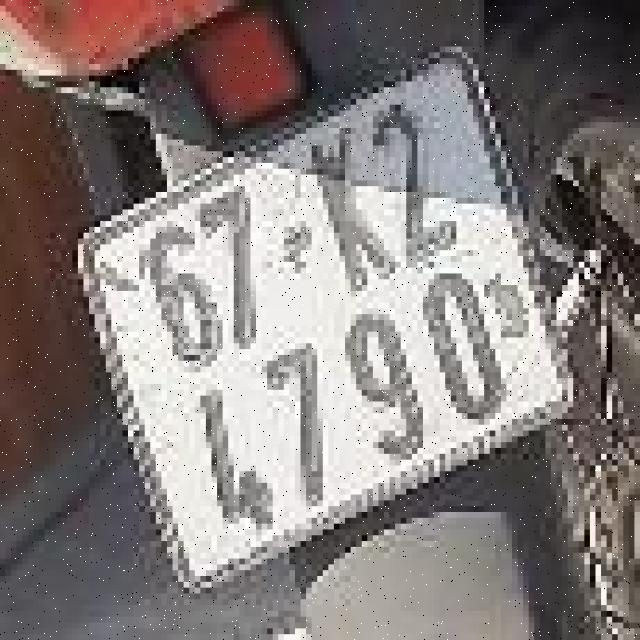0: (407, 253, 529, 440)
2: (352, 80, 477, 276)
4: (178, 371, 298, 545)
6: (133, 205, 230, 382)
7: (248, 325, 369, 518), (186, 169, 286, 362)
9: (332, 296, 437, 482)
K: (292, 107, 412, 305)
